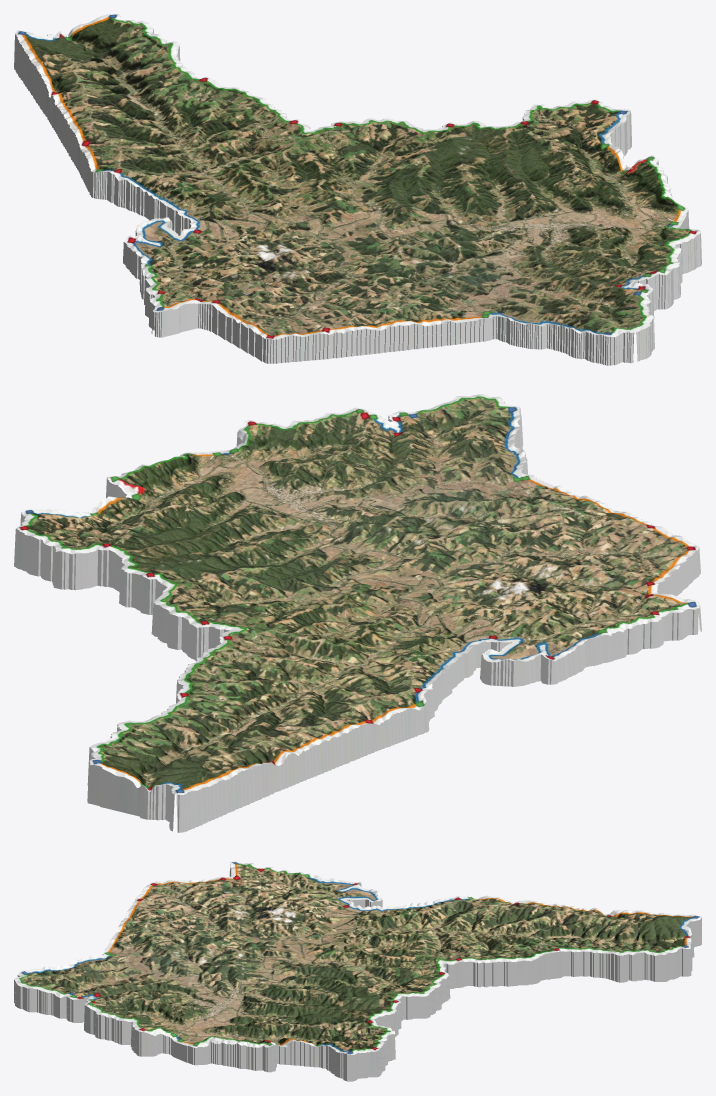
The picture shows the model from 3 angles, top to bottom: view 1: azimuth 30°, elevation 25°; view 2: azimuth 150°, elevation 25°; view 3: azimuth 270°, elevation 25°; orthographic projection. The views are drawn at different scales.
Bounding box in the file's own units: 1 × 0.0641 × 1.44.
1 material, 1 textured.
